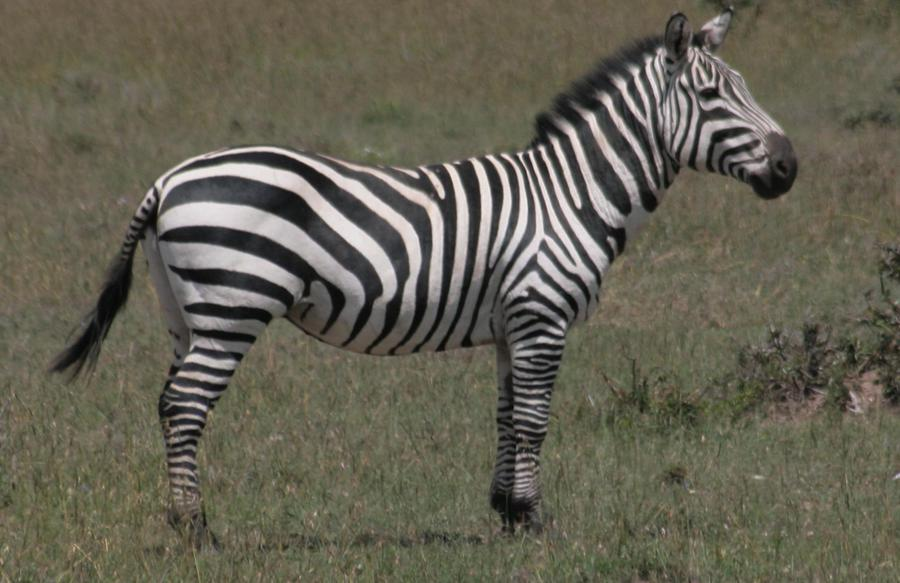zebra_plains: (149, 112, 616, 381)
